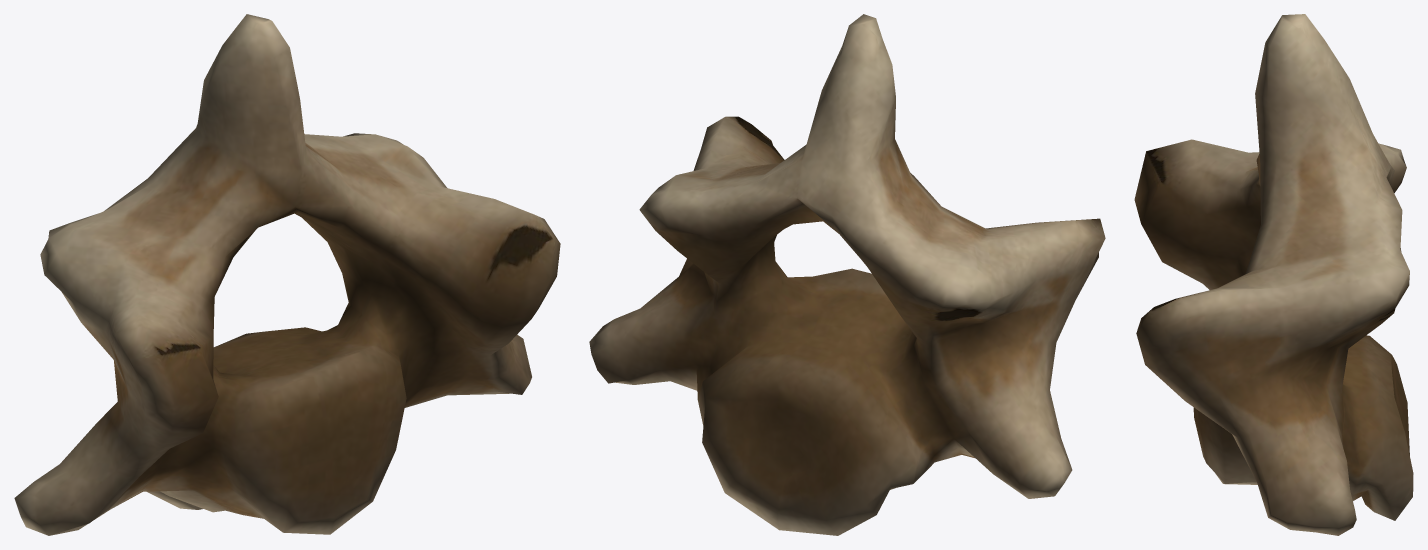
3 renders of one model, left to right at view 1: azimuth 30°, elevation 25°; view 2: azimuth 150°, elevation 25°; view 3: azimuth 270°, elevation 25°, orthographic. The views are drawn at different scales.
Parts seen in each view (by area): view 1: C12:Group53291; view 2: C12:Group53291; view 3: C12:Group53291.
Boxes of the visible parts, x1=… form: C12:Group53291: x1=14, y1=14, x2=560, y2=535; C12:Group53291: x1=589, y1=14, x2=1105, y2=535; C12:Group53291: x1=1134, y1=14, x2=1413, y2=535.
Bounding box in the file's own units: 35.75 × 35.75 × 18.66.
Materials: 1 (1 with a texture image).
